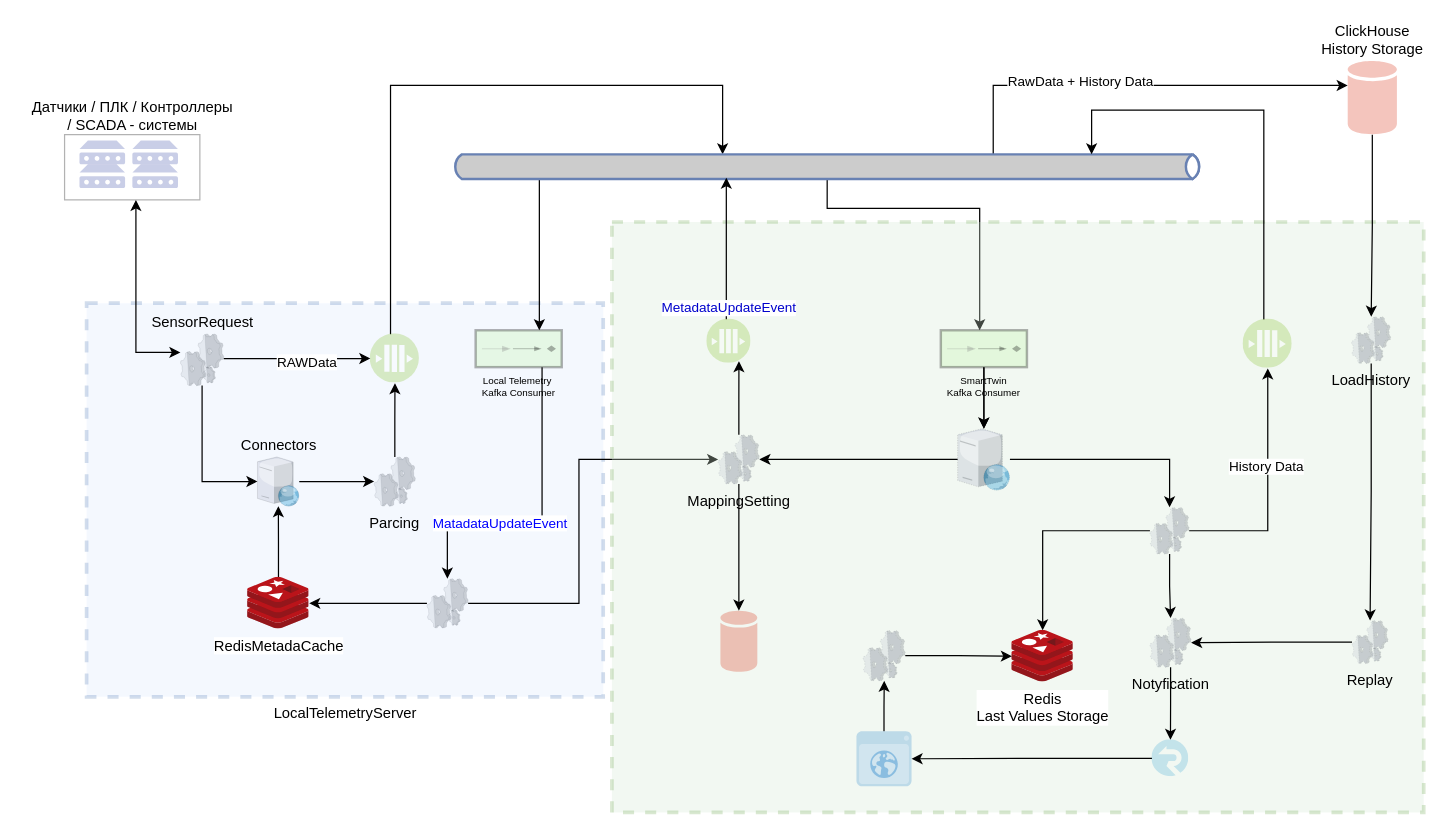
This 1446x835 diagram has some shape labels left out. The centre of each missing label's shape, as x and y in pixels:
"Kafka" belongs at (826,166).
"Mapping" belongs at (1169,530).
"Metadata Manager" belongs at (447,602).
"SignalRHub" belongs at (1169,757).
"SmartTwin Api Controller" belongs at (883,655).
"SmartTwin BackEnd" belongs at (983,459).
"SmartTwinDB" belongs at (738,641).
